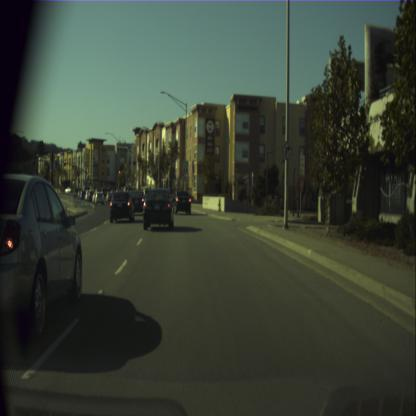Red: (64, 160, 66, 166), (72, 162, 74, 168)
